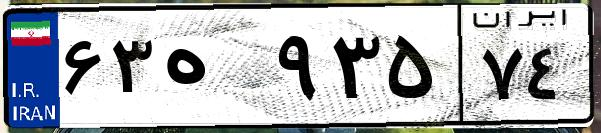3: (330, 28, 385, 110), (110, 28, 158, 98)
4: (525, 38, 570, 115)
5: (385, 28, 445, 110)
6: (57, 26, 110, 100)
7: (475, 38, 525, 113)
9: (270, 28, 330, 110)
ه: (158, 20, 270, 120)
